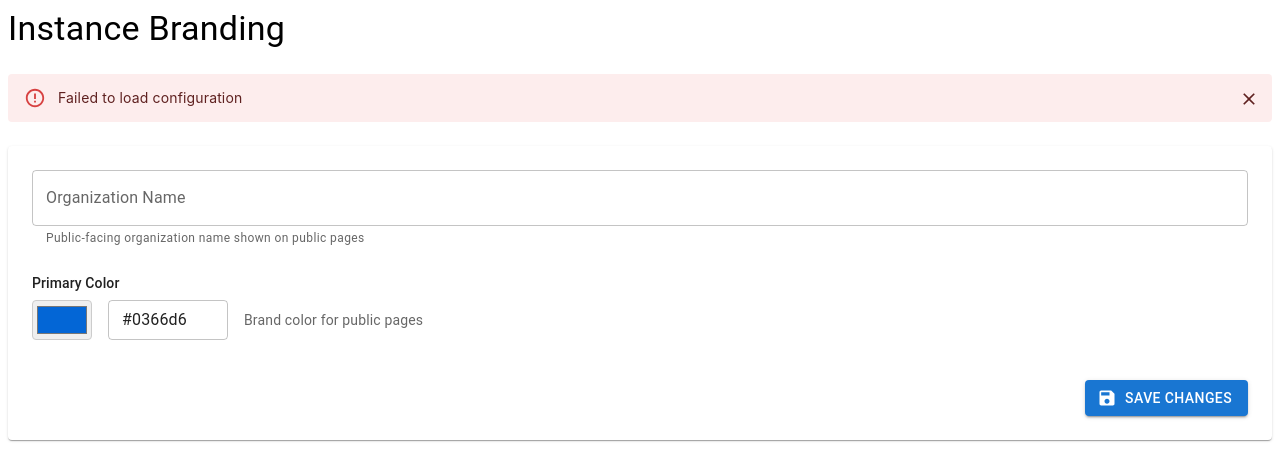
Test: OrganizationBranding — form interactions › dismisses the error alert via its close button
The image size is (1280, 459).
Expected: the text "Failed to load configuration" is shown, left=58, top=89, right=242, bottom=106
What coordinates should you click on to do the following:
click the button named "close"
I would click on:
 (1249, 99)
Its box is left=1234, top=84, right=1264, bottom=114.
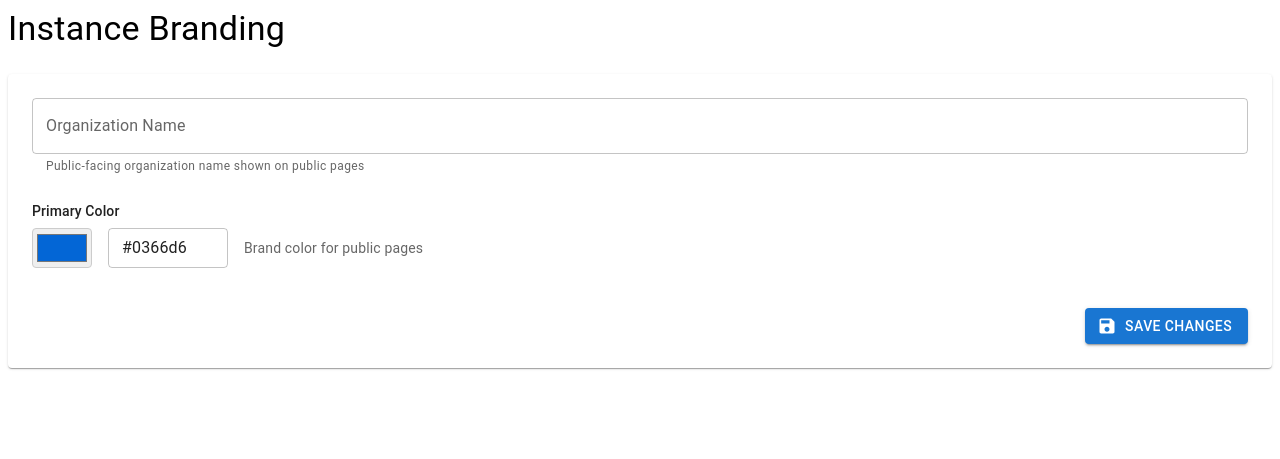
Expected: the text "Failed to load configuration" is gone
